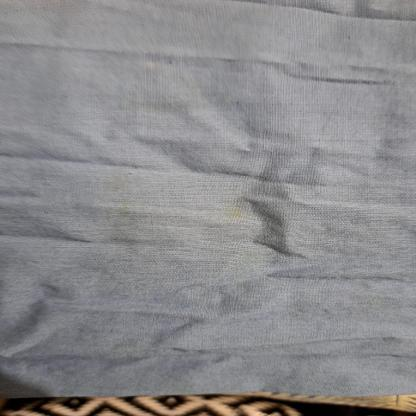spot: (92, 166, 149, 246), (216, 201, 247, 224)
